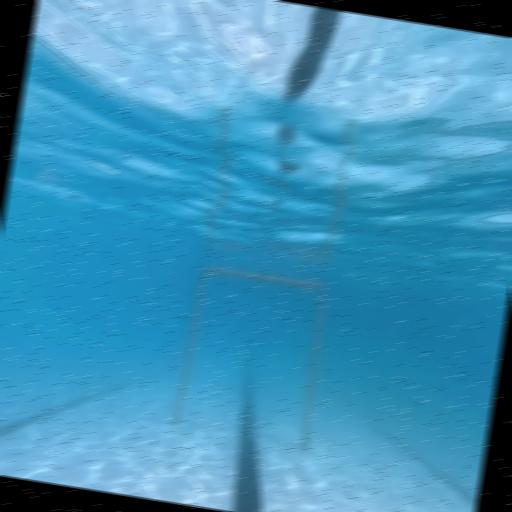gate: (172, 264, 334, 450)
